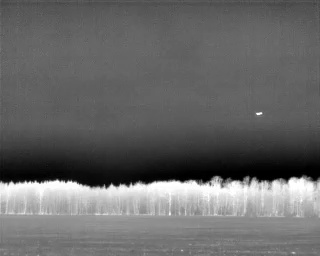DRONE: (253, 108, 265, 119)
